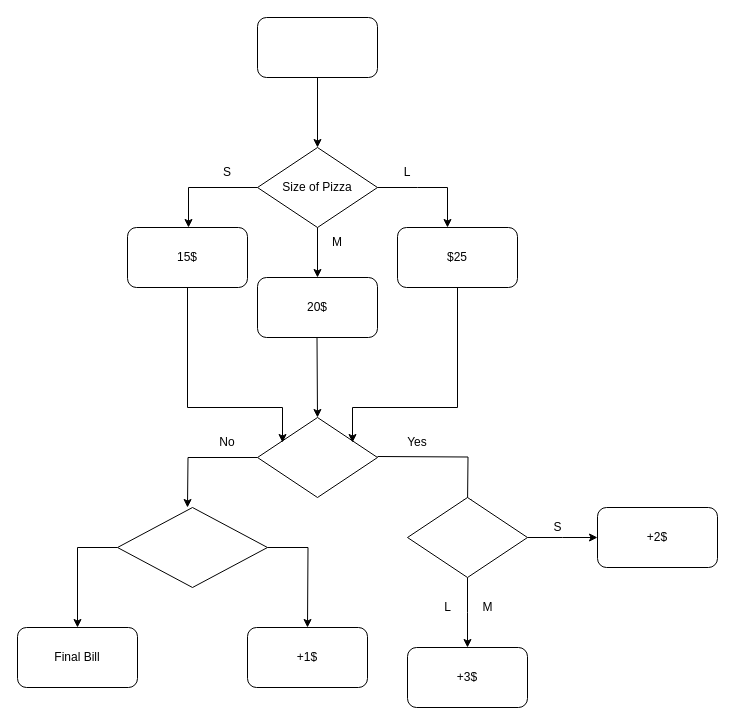
Image size: 735x725. Some labels were removed from this diagram. The shapes that lost their labels are listed below. From the top down, each one's centre as x and y in pixels, then its label:
the point at 317,47: Start
the point at 317,457: Want Pepperoni?
the point at 192,547: Want Extra Cheese?
the point at 467,537: Size
